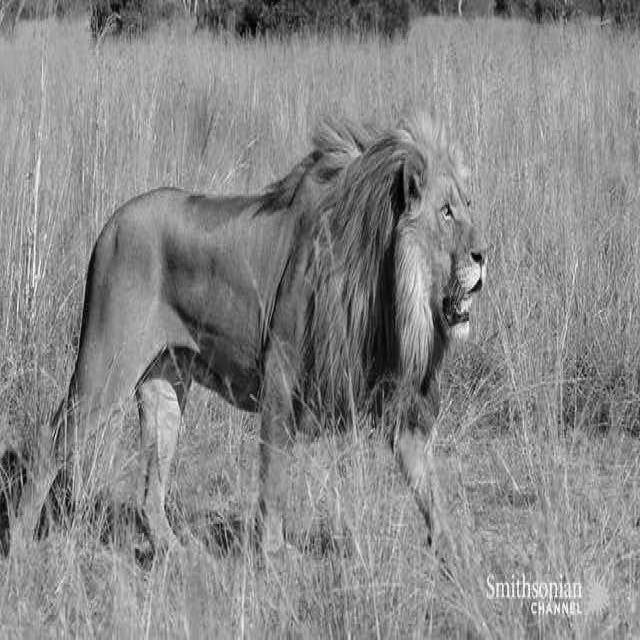Lion: (36, 124, 511, 589)
